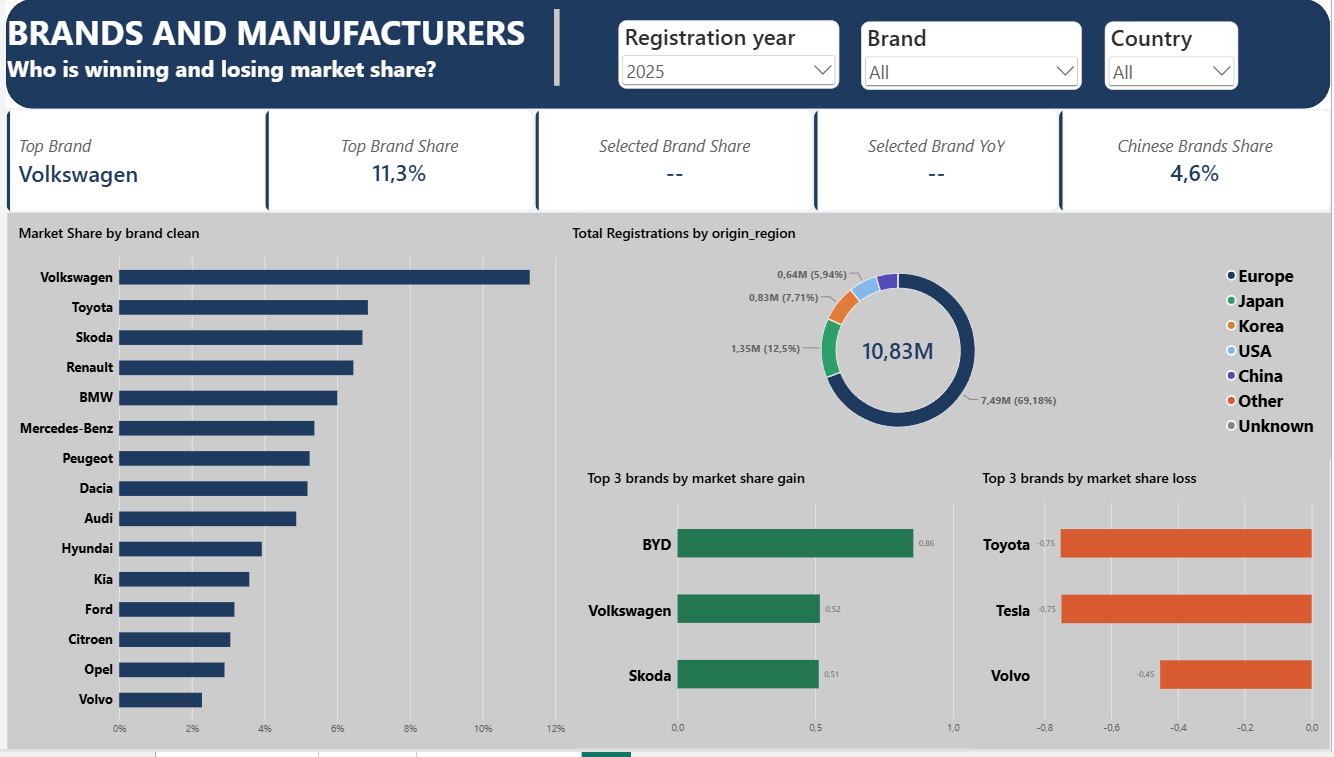

What the dashboard file says about the page in this screenshot:
{"tool":"powerbi","page":{"name":"Brands","canvas":[1920,1080],"ordinal":1},"visuals":[{"type":"shape","box":[14.4,0,1904.4,158],"z":0},{"type":"textbox","box":[16.2,14.4,794.6,116.9],"z":1000},{"type":"slicer","fields":{"Values":["fact_registrations.registration_year"]},"box":[896,30.3,317.7,98.8],"z":2000},{"type":"slicer","title":"Country","fields":{"Values":["dim_country.country_name"]},"box":[1595,32.5,192.2,98.8],"z":3000},{"type":"cardVisual","fields":{"Data":["fact_registrations.Top Brand"]},"box":[15.1,158,495.6,149.3],"z":4000},{"type":"cardVisual","fields":{"Data":["fact_registrations.Top Brand Share"]},"box":[386.9,158.7,386.9,148.8],"z":5000},{"type":"cardVisual","fields":{"Data":["fact_registrations.Selected Brand Share"]},"box":[774,158.8,401.8,148.8],"z":6000},{"type":"slicer","fields":{"Values":["dim_brand.brand_clean"]},"box":[1244.4,32.5,317.7,98.8],"z":7000},{"type":"cardVisual","fields":{"Data":["fact_registrations.Chinese Brands Share"]},"box":[1528,158.8,391.8,148.8],"z":8000},{"type":"cardVisual","fields":{"Data":["fact_registrations.Selected Brand YoY"]},"box":[1176.1,158.8,352.2,148.8],"z":9000},{"type":"clusteredBarChart","title":"Market Share by brand clean","fields":{"Category":["dim_brand.brand_clean"],"Y":["fact_registrations.Market Share"]},"box":[16.1,307.6,818.3,772],"z":10000},{"type":"donutChart","title":"Total Registrations by origin_region","fields":{"Category":["dim_brand.origin_region"],"Y":["fact_registrations.Total Registrations"]},"box":[812,308,1108,354],"z":11000},{"type":"clusteredBarChart","title":"Top 3 brands by market share gain","fields":{"Category":["dim_brand.brand_clean"],"Y":["fact_registrations.Share Change (pp)"]},"box":[833.9,660.6,568.2,418.1],"z":11001},{"type":"clusteredBarChart","title":"Top 3 brands by market share loss","fields":{"Category":["dim_brand.brand_clean"],"Y":["fact_registrations.Share Change (pp)"]},"box":[1402.2,659.8,516,418.9],"z":11002}]}

Visuals, with their boxes in screenshot pixels (x1, y1, x2, y2), scaled from the page's 1920x1080 canvas onto the 1334x757 screenshot:
shape: 10, 0, 1333, 111
textbox: 11, 10, 563, 92
slicer - fact_registrations.registration_year: 623, 21, 843, 90
"Country" slicer: 1108, 23, 1242, 92
cardVisual - fact_registrations.Top Brand: 10, 111, 355, 215
cardVisual - fact_registrations.Top Brand Share: 269, 111, 538, 216
cardVisual - fact_registrations.Selected Brand Share: 538, 111, 817, 216
slicer - dim_brand.brand_clean: 865, 23, 1085, 92
cardVisual - fact_registrations.Chinese Brands Share: 1062, 111, 1333, 216
cardVisual - fact_registrations.Selected Brand YoY: 817, 111, 1062, 216
"Market Share by brand clean" clusteredBarChart: 11, 216, 580, 756
"Total Registrations by origin_region" donutChart: 564, 216, 1333, 464
"Top 3 brands by market share gain" clusteredBarChart: 579, 463, 974, 756
"Top 3 brands by market share loss" clusteredBarChart: 974, 462, 1333, 756
